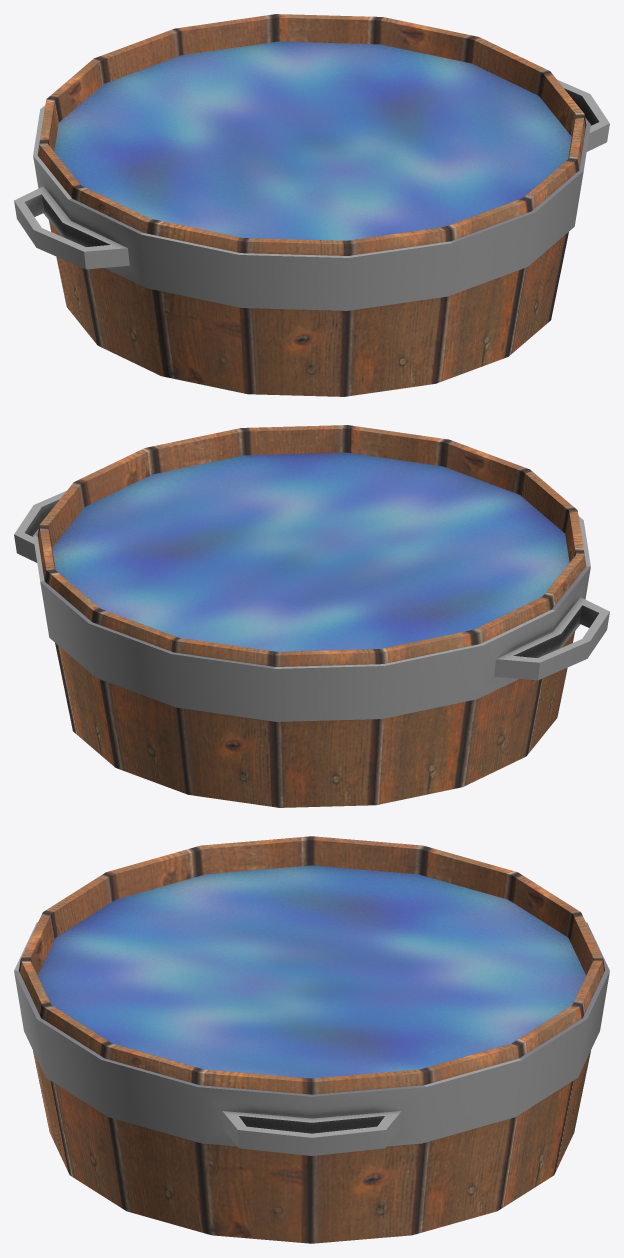
Rendered from Bucket_Full.fbx.
The picture shows the model from 3 angles, top to bottom: view 1: azimuth 30°, elevation 25°; view 2: azimuth 150°, elevation 25°; view 3: azimuth 270°, elevation 25°; orthographic projection. The views are drawn at different scales.
Visible parts, largest first — view 1: Bucket_Full; view 2: Bucket_Full; view 3: Bucket_Full.
Boxes of the visible parts, x1=… form: Bucket_Full: x1=14, y1=14, x2=609, y2=396; Bucket_Full: x1=14, y1=425, x2=609, y2=807; Bucket_Full: x1=14, y1=836, x2=609, y2=1243.
Size of the model in its own units: 15992 by 4500 by 13997.
